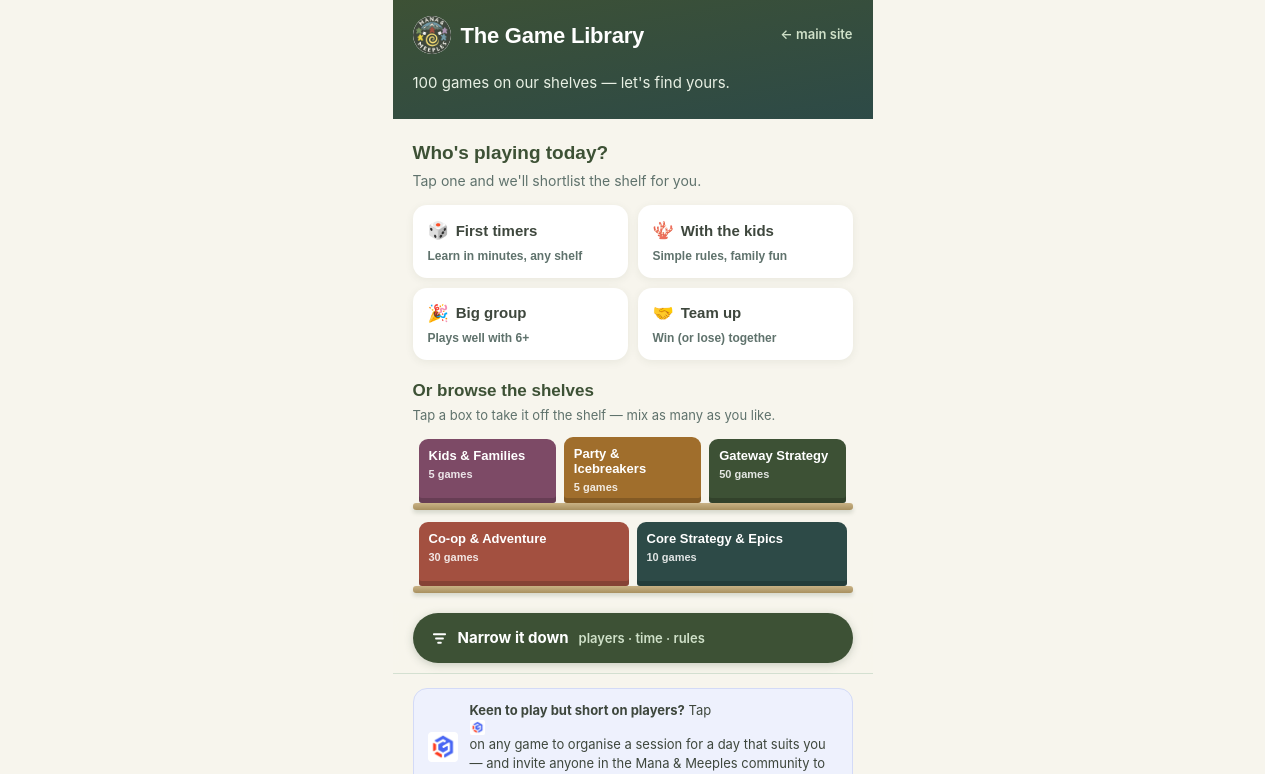
Test: PublicCatalogue Page › toggling a quick pick sends the quick_pick param and shows a removable chip
The image size is (1280, 774).
Click the button "🤝 Team up Win (or lose) together" at (745, 324), box [638,288,852,360]
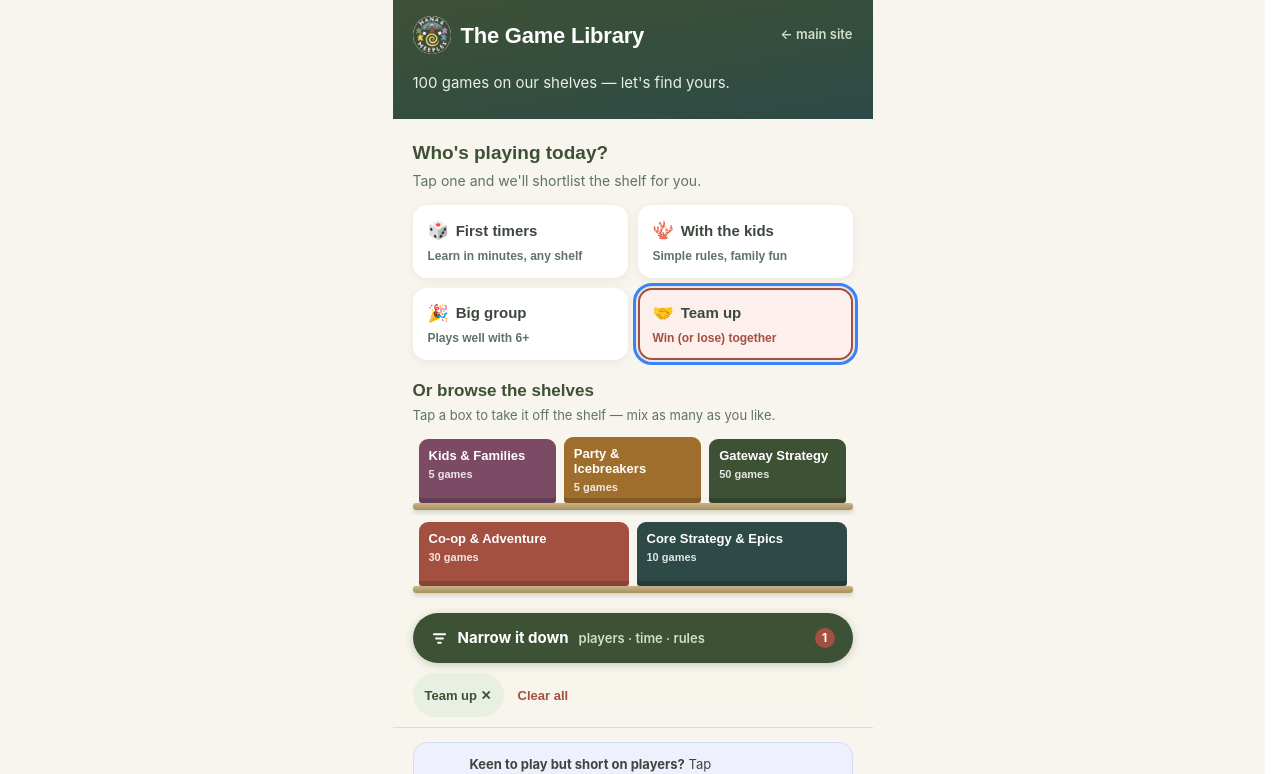
Now the button "Team up ✕" is shown
Click the button "Team up ✕" at (458, 695), box [412,673,504,717]
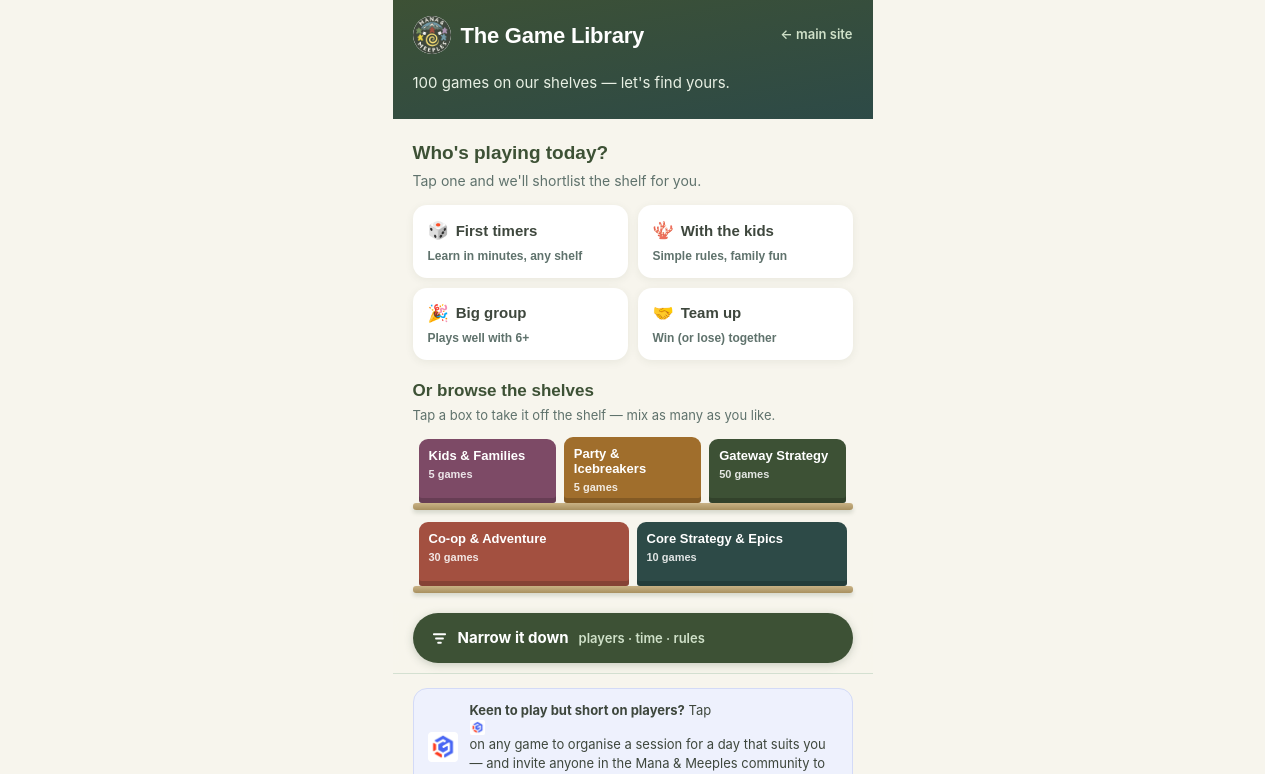
Now the button "Team up ✕" is gone
